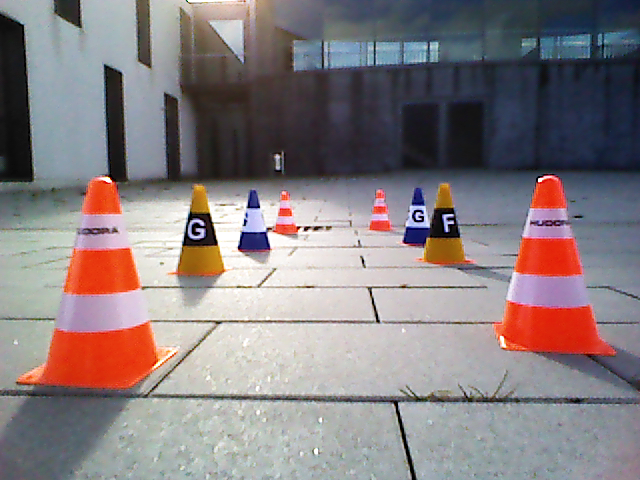bluecone: (241, 190, 270, 248), (404, 187, 430, 244)
orangeconesmall: (42, 173, 160, 378), (503, 174, 600, 349), (276, 189, 297, 231), (369, 187, 390, 229)
yellowcone: (177, 184, 224, 274), (424, 183, 464, 264)
